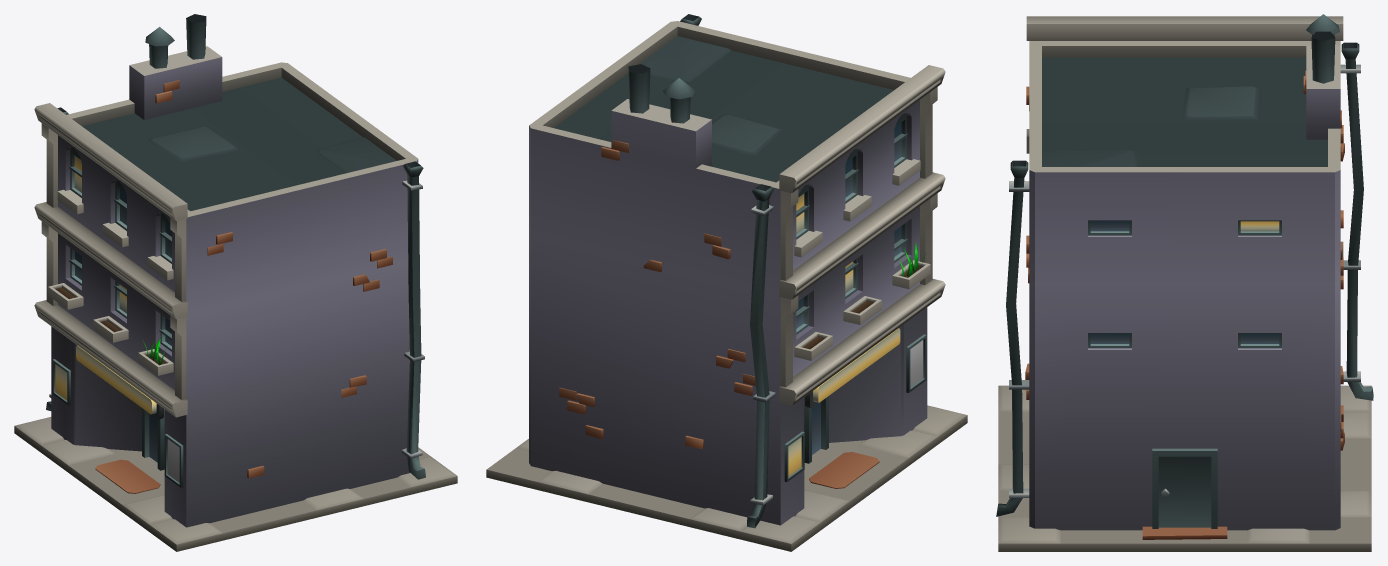
The model's file is Building_1A.fbx.
3 renders of one model, left to right at view 1: azimuth 30°, elevation 25°; view 2: azimuth 150°, elevation 25°; view 3: azimuth 270°, elevation 25°, orthographic. The views are drawn at different scales.
Visible parts, largest first — view 1: Building_1A; view 2: Building_1A; view 3: Building_1A.
Part boxes in pixels (x1,y1,x2,y2): Building_1A: (14,14,457,551); Building_1A: (486,14,967,551); Building_1A: (996,14,1373,551).
Bounding box in the file's own units: 1200 × 1596 × 1214.
